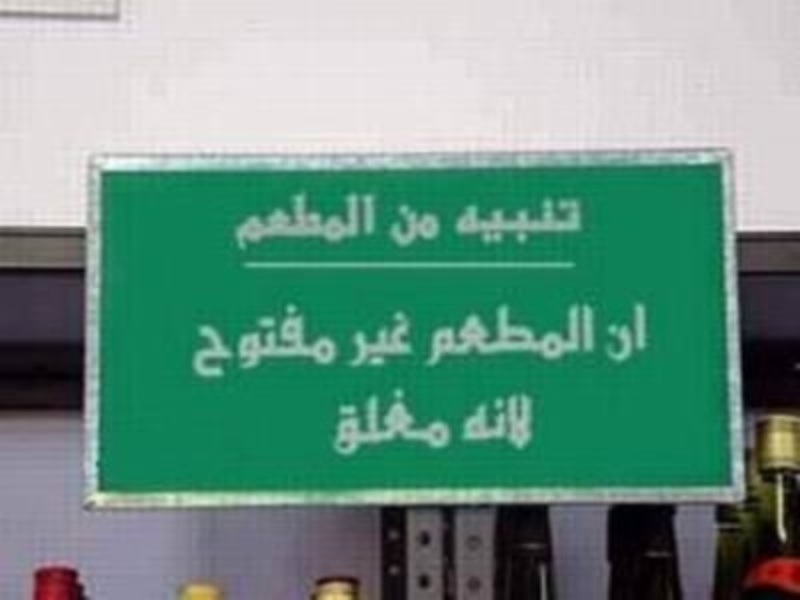text: (193, 303, 208, 379), (209, 303, 224, 379), (225, 303, 240, 379), (241, 303, 256, 379), (257, 303, 272, 379), (273, 303, 288, 379), (289, 303, 304, 379), (305, 303, 320, 379), (321, 303, 336, 379), (337, 387, 352, 459), (353, 387, 368, 459), (369, 387, 384, 459), (385, 387, 400, 459), (401, 387, 416, 459), (417, 387, 432, 459), (433, 387, 448, 459), (401, 305, 417, 371), (433, 301, 448, 369), (449, 301, 464, 369), (465, 301, 480, 369), (481, 301, 496, 369), (497, 301, 512, 369), (513, 301, 528, 369), (529, 301, 544, 369), (545, 301, 560, 369), (561, 301, 576, 369), (577, 301, 592, 369), (353, 305, 368, 371), (369, 305, 384, 371), (385, 305, 400, 371), (465, 388, 480, 451), (481, 388, 496, 451), (497, 388, 512, 451), (513, 388, 528, 451), (609, 301, 624, 363), (625, 301, 640, 363), (241, 193, 256, 253), (257, 193, 272, 253), (273, 193, 288, 253), (289, 193, 304, 253), (305, 193, 320, 253), (321, 193, 336, 253), (337, 193, 352, 253), (353, 193, 368, 253), (465, 194, 480, 251), (481, 194, 496, 251), (497, 194, 512, 251), (513, 194, 528, 251), (529, 194, 544, 251), (545, 194, 560, 251), (561, 194, 576, 251), (401, 201, 416, 251), (417, 201, 432, 251), (641, 301, 651, 363), (577, 194, 587, 251), (389, 201, 400, 251), (455, 194, 464, 251), (529, 388, 537, 451), (329, 387, 336, 459), (433, 201, 443, 251), (369, 193, 377, 253), (425, 301, 432, 369), (593, 301, 599, 369), (347, 305, 352, 371), (603, 301, 608, 363), (235, 193, 240, 253), (460, 388, 464, 451), (337, 303, 339, 379), (449, 387, 451, 459), (191, 303, 192, 379)
